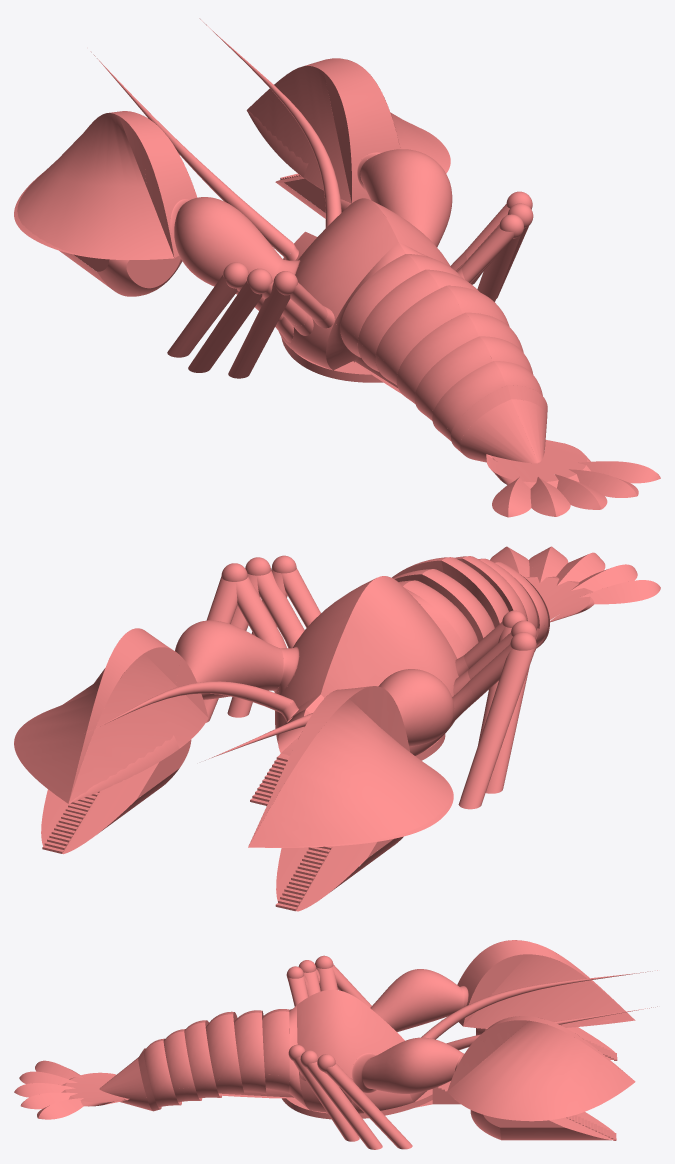
The model's file is ロブスター3D.gltf.
3 renders of one model, top to bottom at view 1: azimuth 30°, elevation 25°; view 2: azimuth 150°, elevation 25°; view 3: azimuth 270°, elevation 25°, orthographic. The views are drawn at different scales.
Size of the model in its own units: 33.22 by 13.92 by 64.73.
